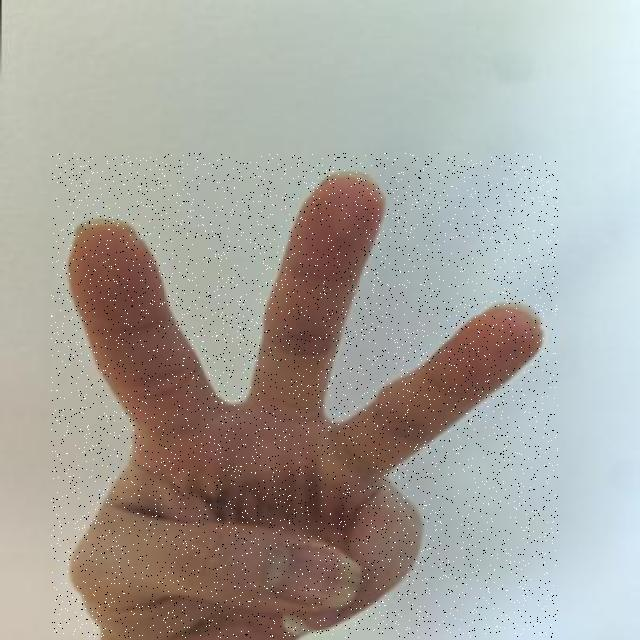W: (51, 153, 558, 638)
